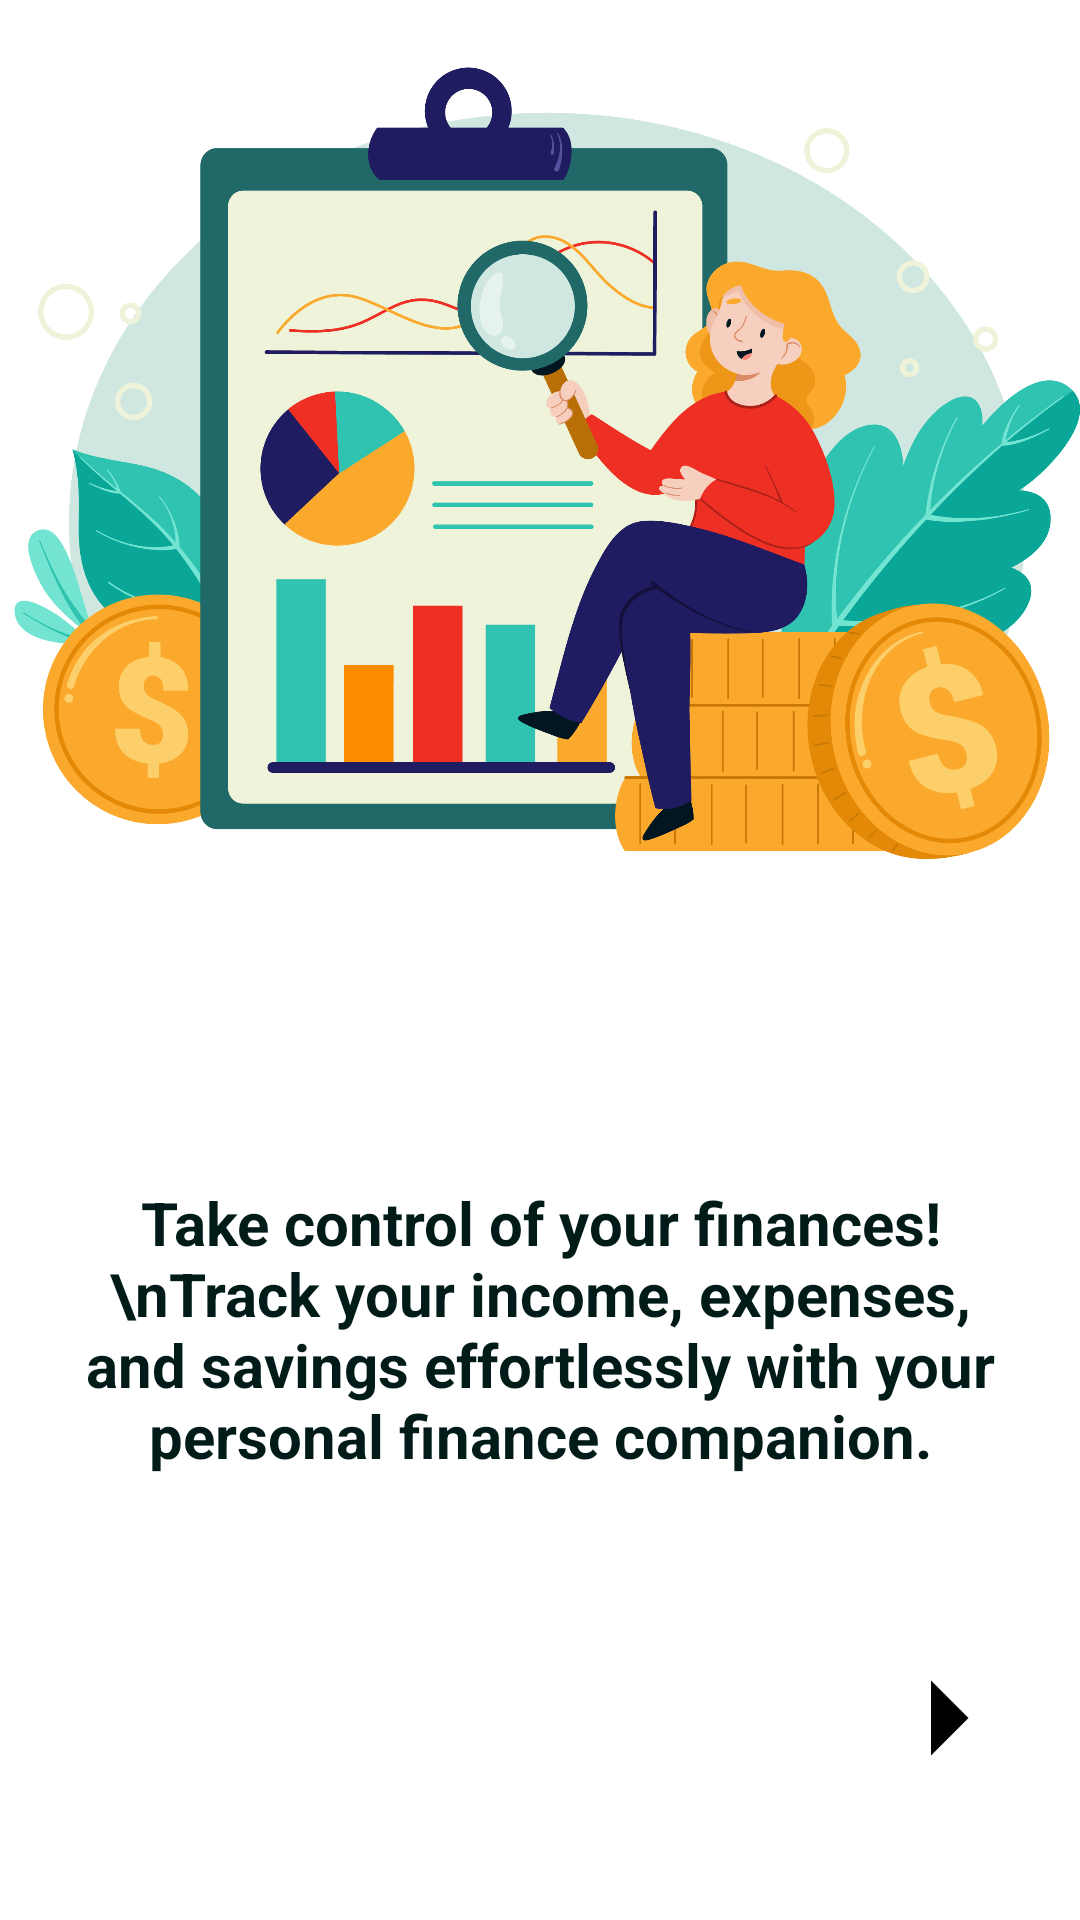

Icons on this 1080 × 1920 Android screen, each with its box as Rect(x1, y1, x2, y2):
arrowright: Rect(931, 1680, 969, 1756)
